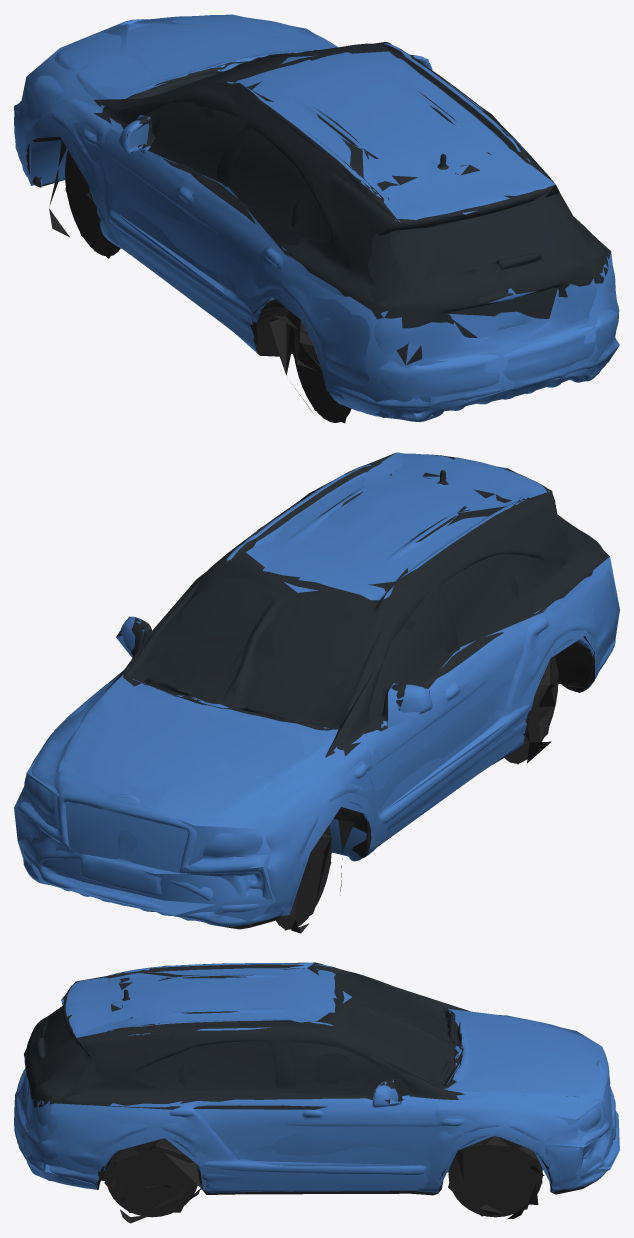
File: bentley-bentayga.glb
3 views of the same model, one above another, from view 1: azimuth 30°, elevation 25°; view 2: azimuth 150°, elevation 25°; view 3: azimuth 270°, elevation 25° (orthographic). The views are drawn at different scales.
Parts seen in each view (by area): view 1: body, far; view 2: body, far; view 3: body, far.
Boxes of the visible parts, left/top/right/bottom form: body: left=14, top=15, right=619, bottom=422; far: left=14, top=14, right=619, bottom=423; body: left=17, top=453, right=616, bottom=933; far: left=14, top=452, right=619, bottom=930; body: left=14, top=963, right=618, bottom=1223; far: left=14, top=962, right=619, bottom=1216.
Bounding box in the file's own units: 2.34 × 1.83 × 5.28.
